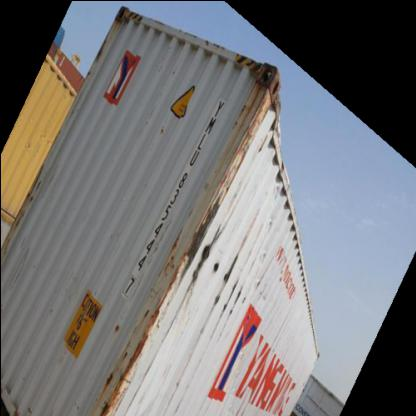Damage: (156, 217, 256, 313), (218, 64, 296, 182), (68, 324, 154, 414)
